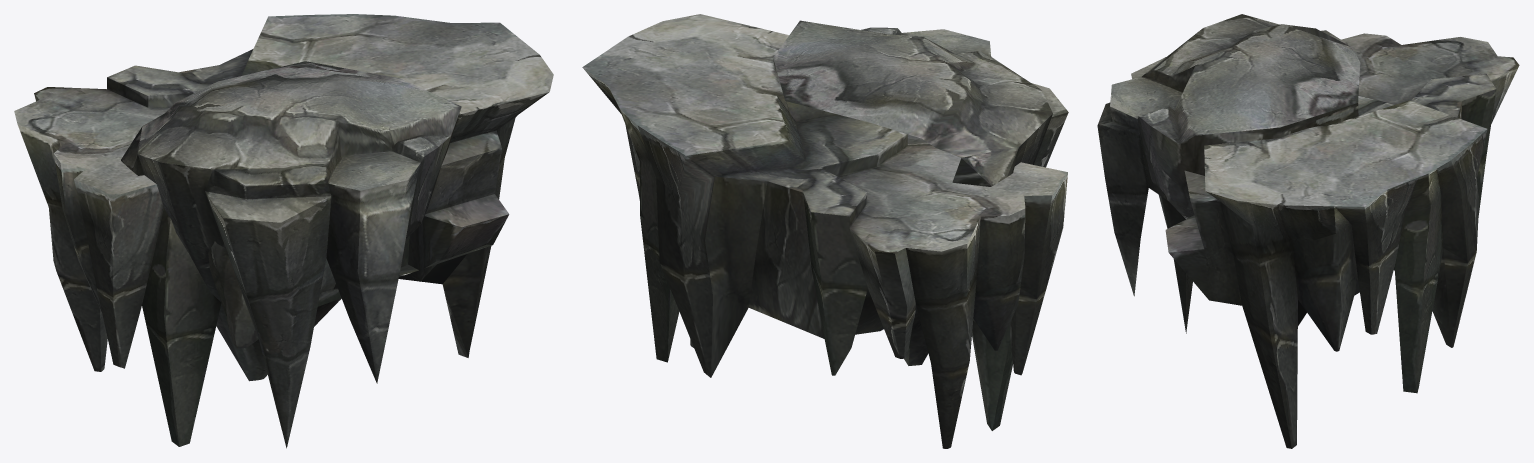
File: shitou.FBX
3 renders of one model, left to right at view 1: azimuth 30°, elevation 25°; view 2: azimuth 150°, elevation 25°; view 3: azimuth 270°, elevation 25°, orthographic. The views are drawn at different scales.
Parts seen in each view (by area): view 1: shitou; view 2: shitou; view 3: shitou.
Part boxes in pixels (bbox=[...]): shitou: bbox=[14, 14, 553, 448]; shitou: bbox=[582, 14, 1068, 448]; shitou: bbox=[1097, 14, 1519, 448].
Size of the model in its own units: 322 by 227 by 276.
